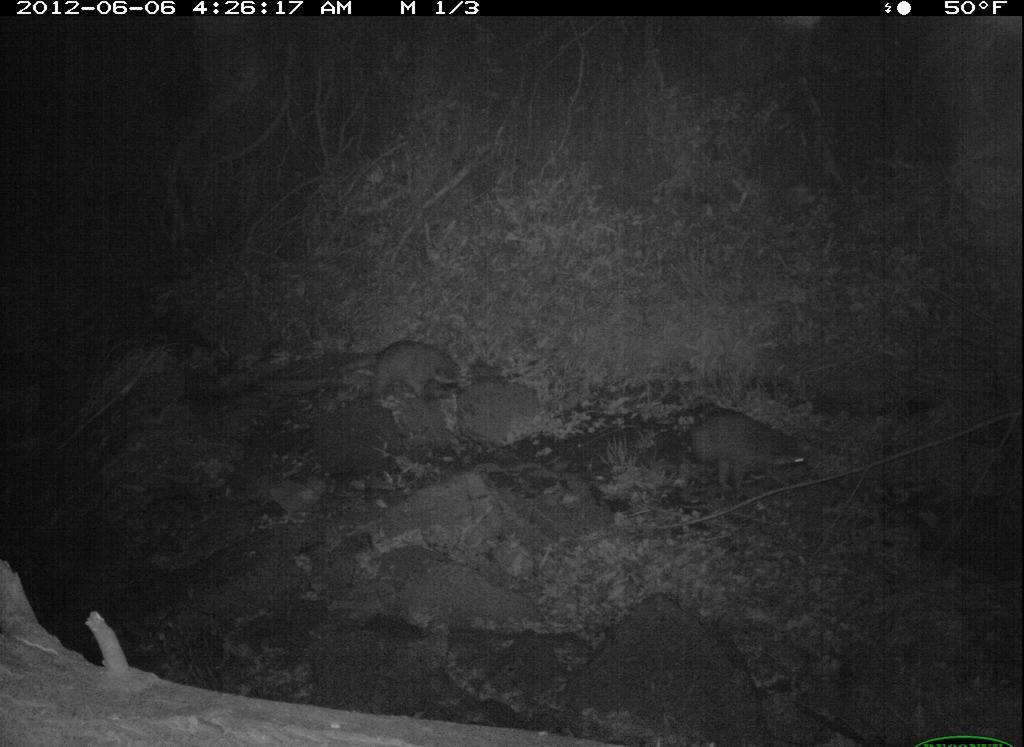raccoon: (676, 403, 814, 500), (336, 338, 471, 405)
